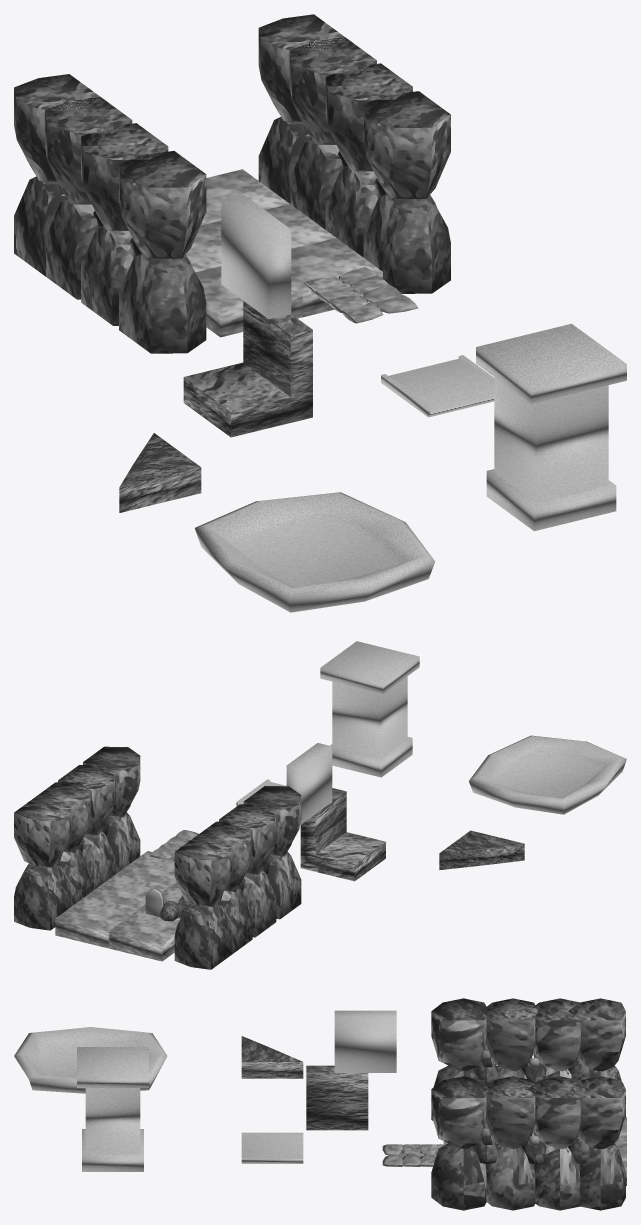
The model's file is Level Objects.fbx.
3 renders of one model, top to bottom at view 1: azimuth 30°, elevation 25°; view 2: azimuth 150°, elevation 25°; view 3: azimuth 270°, elevation 25°, orthographic. The views are drawn at different scales.
Visible parts, largest first — view 1: Cube_340, Cube_084, Cube_043, Cube_024, Cube_005, Cube_007, Cube_010, Cube_017, Cube_080, Cube_339, Cube_338, Cube_085 (+2 smaller); view 2: Cube_340, Cube_084, Cube_043, Cube_024, Cube_005, Cube_085, Cube_007, Cube_337, Cube_017, Cube_335, Cube_339, Cube_080 (+1 smaller); view 3: Cube_084, Cube_340, Cube_043, Cube_024, Cube_007, Cube_005, Cube_010, Cube_017, Cube_080.
Part boxes in pixels (x1=…): Cube_340: x1=14, y1=74, x2=206, y2=353; Cube_084: x1=258, y1=14, x2=450, y2=293; Cube_043: x1=476, y1=323, x2=626, y2=531; Cube_024: x1=195, y1=492, x2=435, y2=612; Cube_005: x1=183, y1=301, x2=312, y2=437; Cube_007: x1=221, y1=195, x2=291, y2=319; Cube_010: x1=381, y1=355, x2=494, y2=417; Cube_017: x1=119, y1=433, x2=201, y2=512; Cube_080: x1=303, y1=267, x2=418, y2=323; Cube_339: x1=291, y1=238, x2=382, y2=317; Cube_338: x1=195, y1=266, x2=302, y2=337; Cube_085: x1=203, y1=169, x2=289, y2=223; Cube_340: x1=174, y1=786, x2=301, y2=969; Cube_084: x1=14, y1=746, x2=140, y2=930; Cube_043: x1=320, y1=641, x2=419, y2=777; Cube_024: x1=469, y1=735, x2=626, y2=814; Cube_005: x1=300, y1=788, x2=385, y2=881; Cube_085: x1=55, y1=896, x2=138, y2=948; Cube_007: x1=286, y1=743, x2=332, y2=824; Cube_337: x1=108, y1=908, x2=180, y2=961; Cube_017: x1=439, y1=830, x2=524, y2=870; Cube_335: x1=87, y1=873, x2=169, y2=908; Cube_339: x1=117, y1=851, x2=176, y2=886; Cube_080: x1=150, y1=830, x2=198, y2=860; Cube_084: x1=431, y1=1076, x2=625, y2=1210; Cube_340: x1=431, y1=998, x2=625, y2=1120; Cube_043: x1=77, y1=1047, x2=148, y2=1171; Cube_024: x1=14, y1=1027, x2=167, y2=1093; Cube_007: x1=334, y1=1010, x2=396, y2=1072; Cube_005: x1=306, y1=1065, x2=368, y2=1130; Cube_010: x1=241, y1=1132, x2=303, y2=1163; Cube_017: x1=241, y1=1036, x2=303, y2=1078; Cube_080: x1=382, y1=1144, x2=445, y2=1166.
Size of the model in its own units: 18956 by 6116 by 30263.
